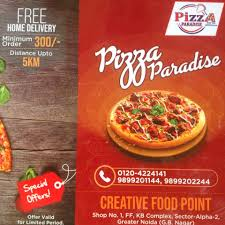pizza: (105, 90, 208, 148)
